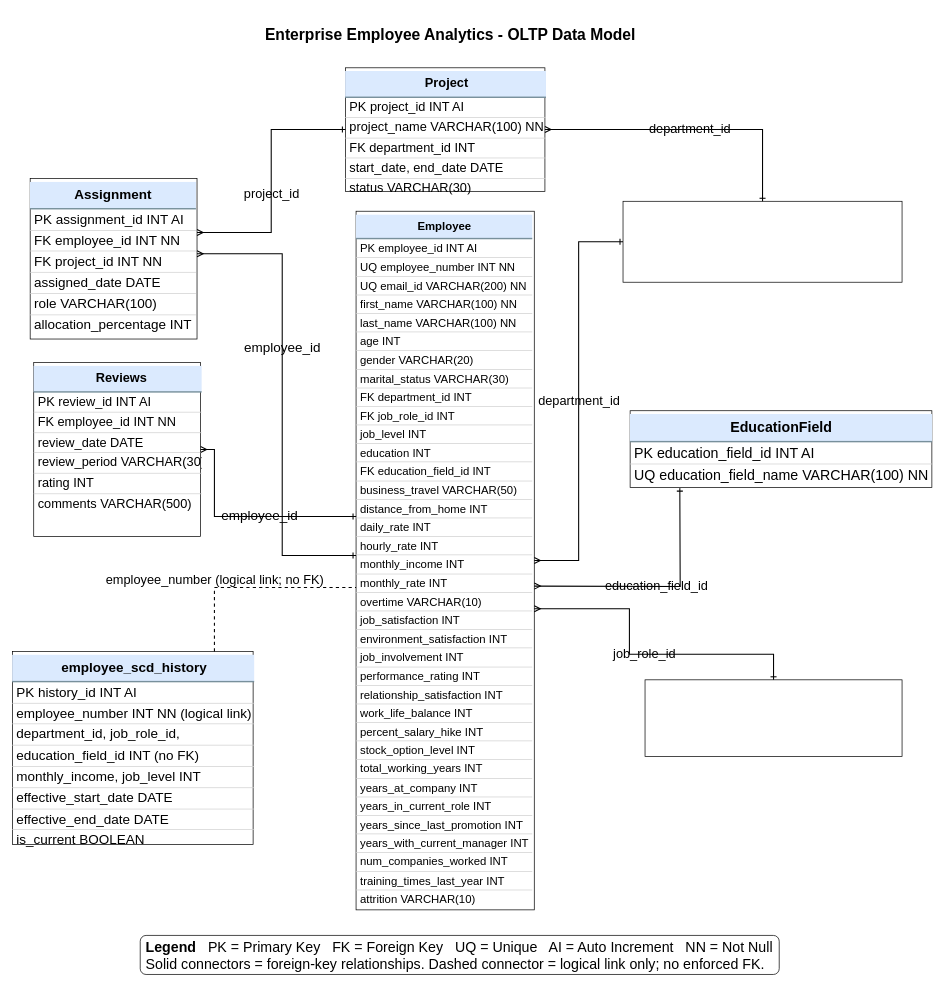
Some shapes in this 944 by 987 pixel diagram are drawn without their labels. The box of each missing label's shape, as (x1, y1, x2, y2) in pixels:
Department PK department_id INT AI UQ department_name VARCHAR(100) NN: (622, 201, 902, 282)
JobRole PK job_role_id INT AI UQ job_role_name VARCHAR(100) NN: (644, 679, 902, 757)
